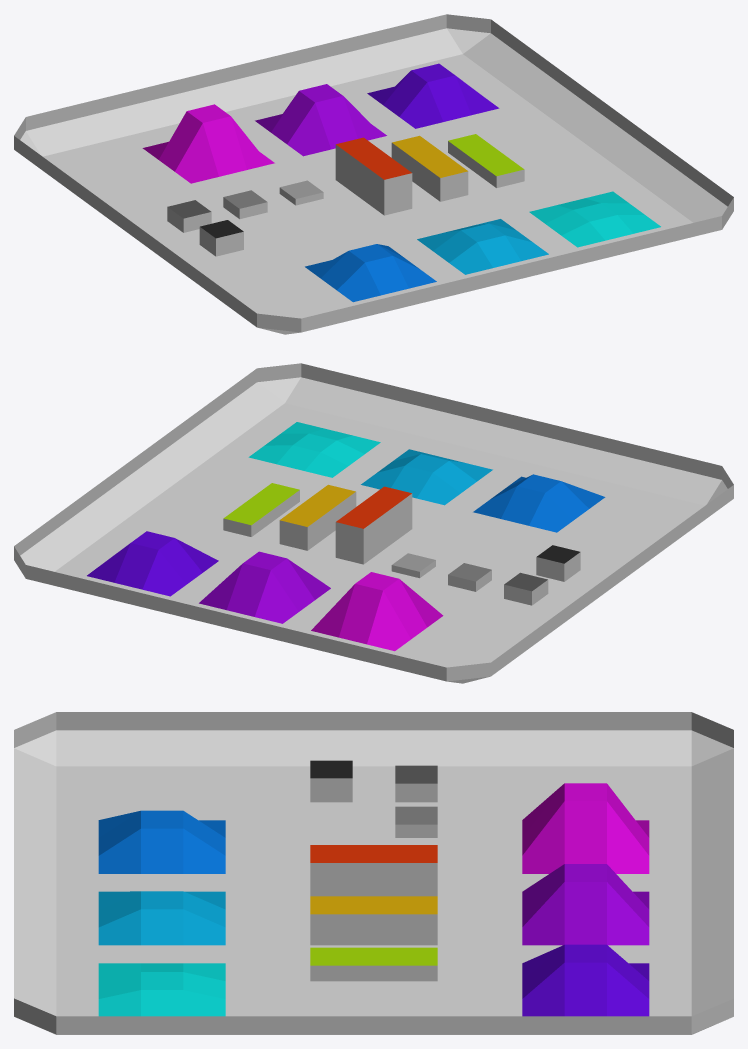
The model's file is Test Level.fbx.
The picture shows the model from 3 angles, top to bottom: view 1: azimuth 30°, elevation 25°; view 2: azimuth 150°, elevation 25°; view 3: azimuth 270°, elevation 25°; orthographic projection. The views are drawn at different scales.
Parts seen in each view (by area): view 1: Plane; view 2: Plane; view 3: Plane.
Boxes of the visible parts, left/top/right/bottom form: Plane: left=14, top=14, right=733, bottom=334; Plane: left=14, top=363, right=733, bottom=683; Plane: left=14, top=712, right=733, bottom=1034.
Bounding box in the file's own units: 59.36 × 4.99 × 59.36.
